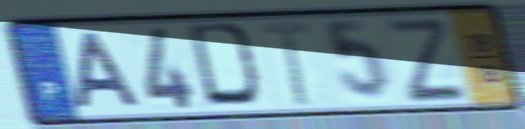4: (141, 23, 198, 114)
5: (319, 16, 397, 107)
A: (75, 29, 146, 112)
D: (184, 20, 268, 112)
T: (259, 18, 313, 110)
Z: (381, 16, 470, 105)
